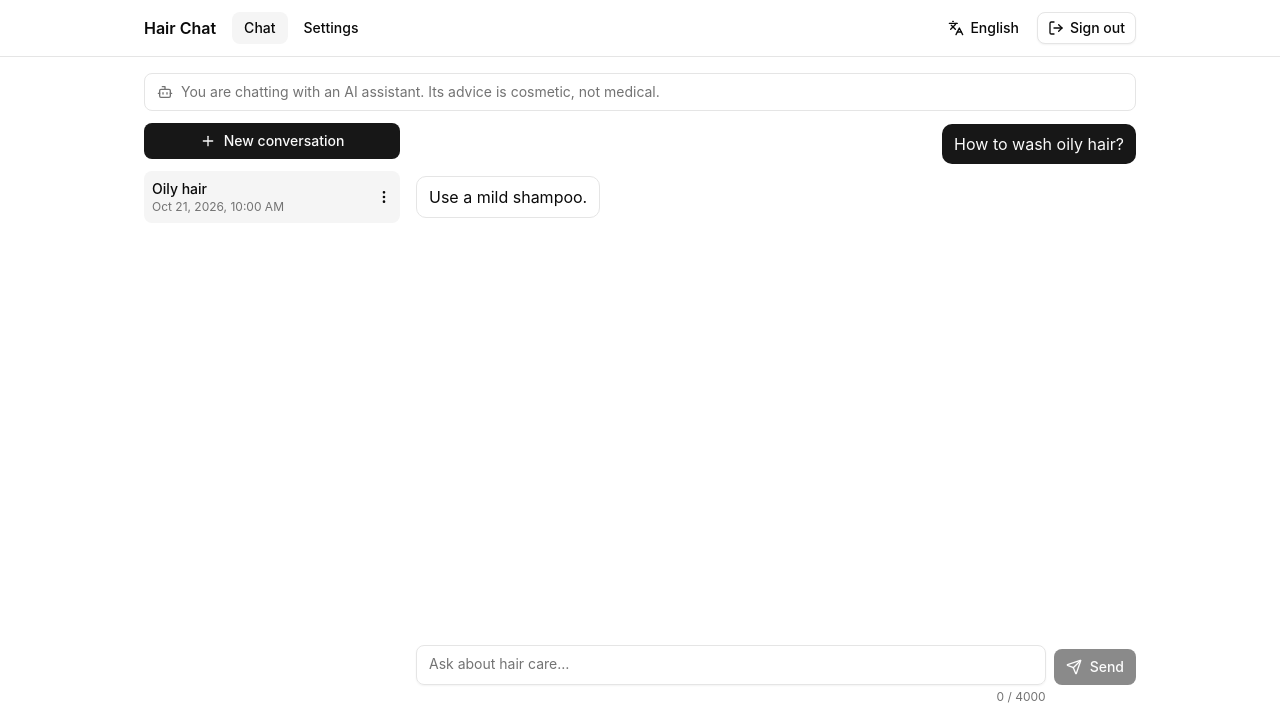
it: sending a message › shows a localized error event and keeps the saved user message
Check: the text "Use a mild shampoo." is shown, box x1=429 y1=185 x2=587 y2=209
Step 1. Type "Hello" into the text box named "Message" → (731, 665), box x1=416 y1=645 x2=1046 y2=685
Then press Enter
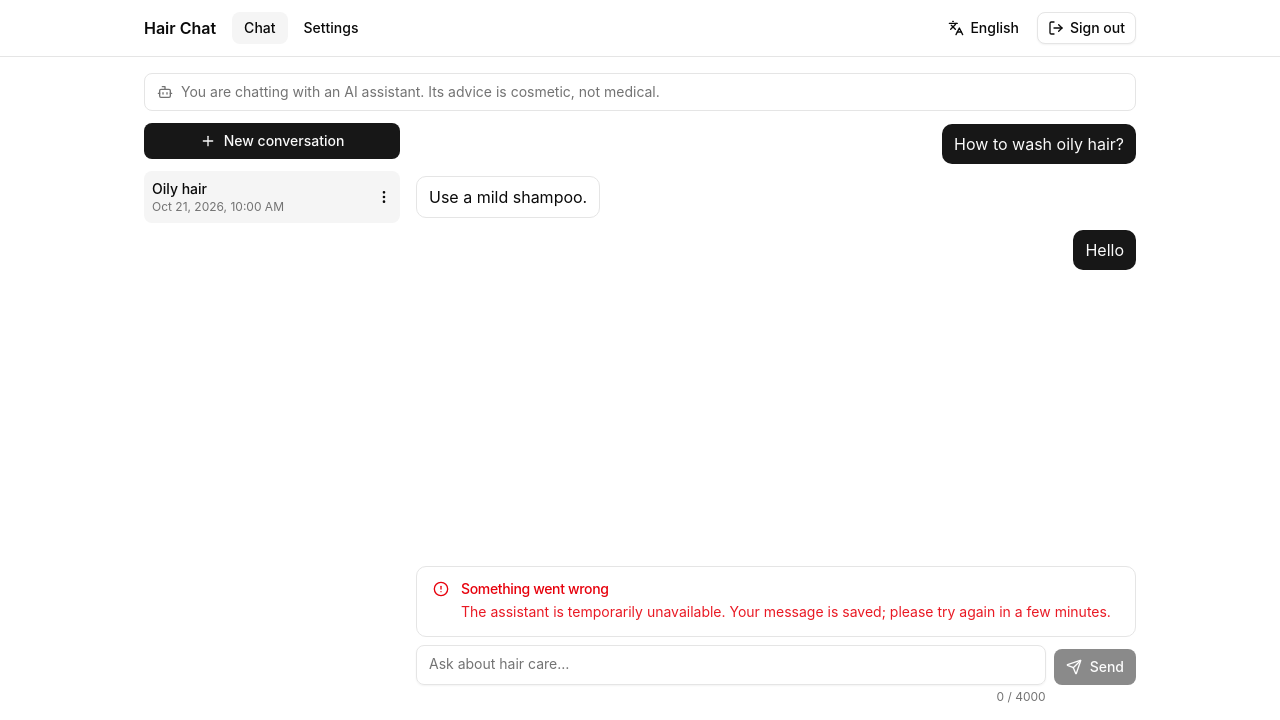
Check: the text "The assistant is temporarily unavailable. Your message is saved; please try again in a few minutes." is shown, box x1=461 y1=603 x2=1111 y2=620
Check: the text "Hello" is shown, box x1=1085 y1=238 x2=1124 y2=262
